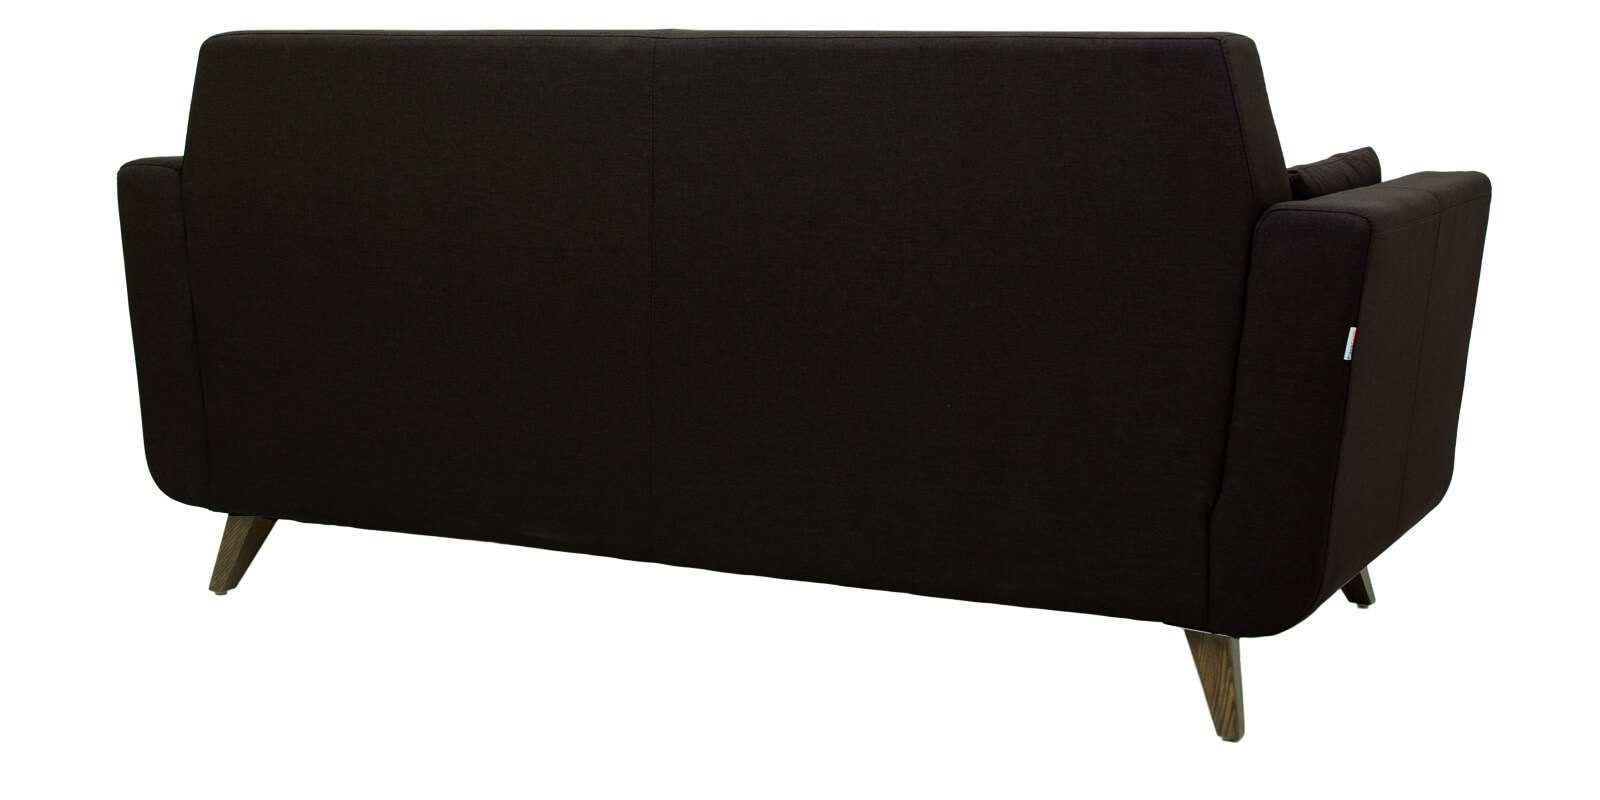Brass Three Seater Sofa in Dark Grey Colour by Furniture Mind: (116, 16, 1511, 679)
